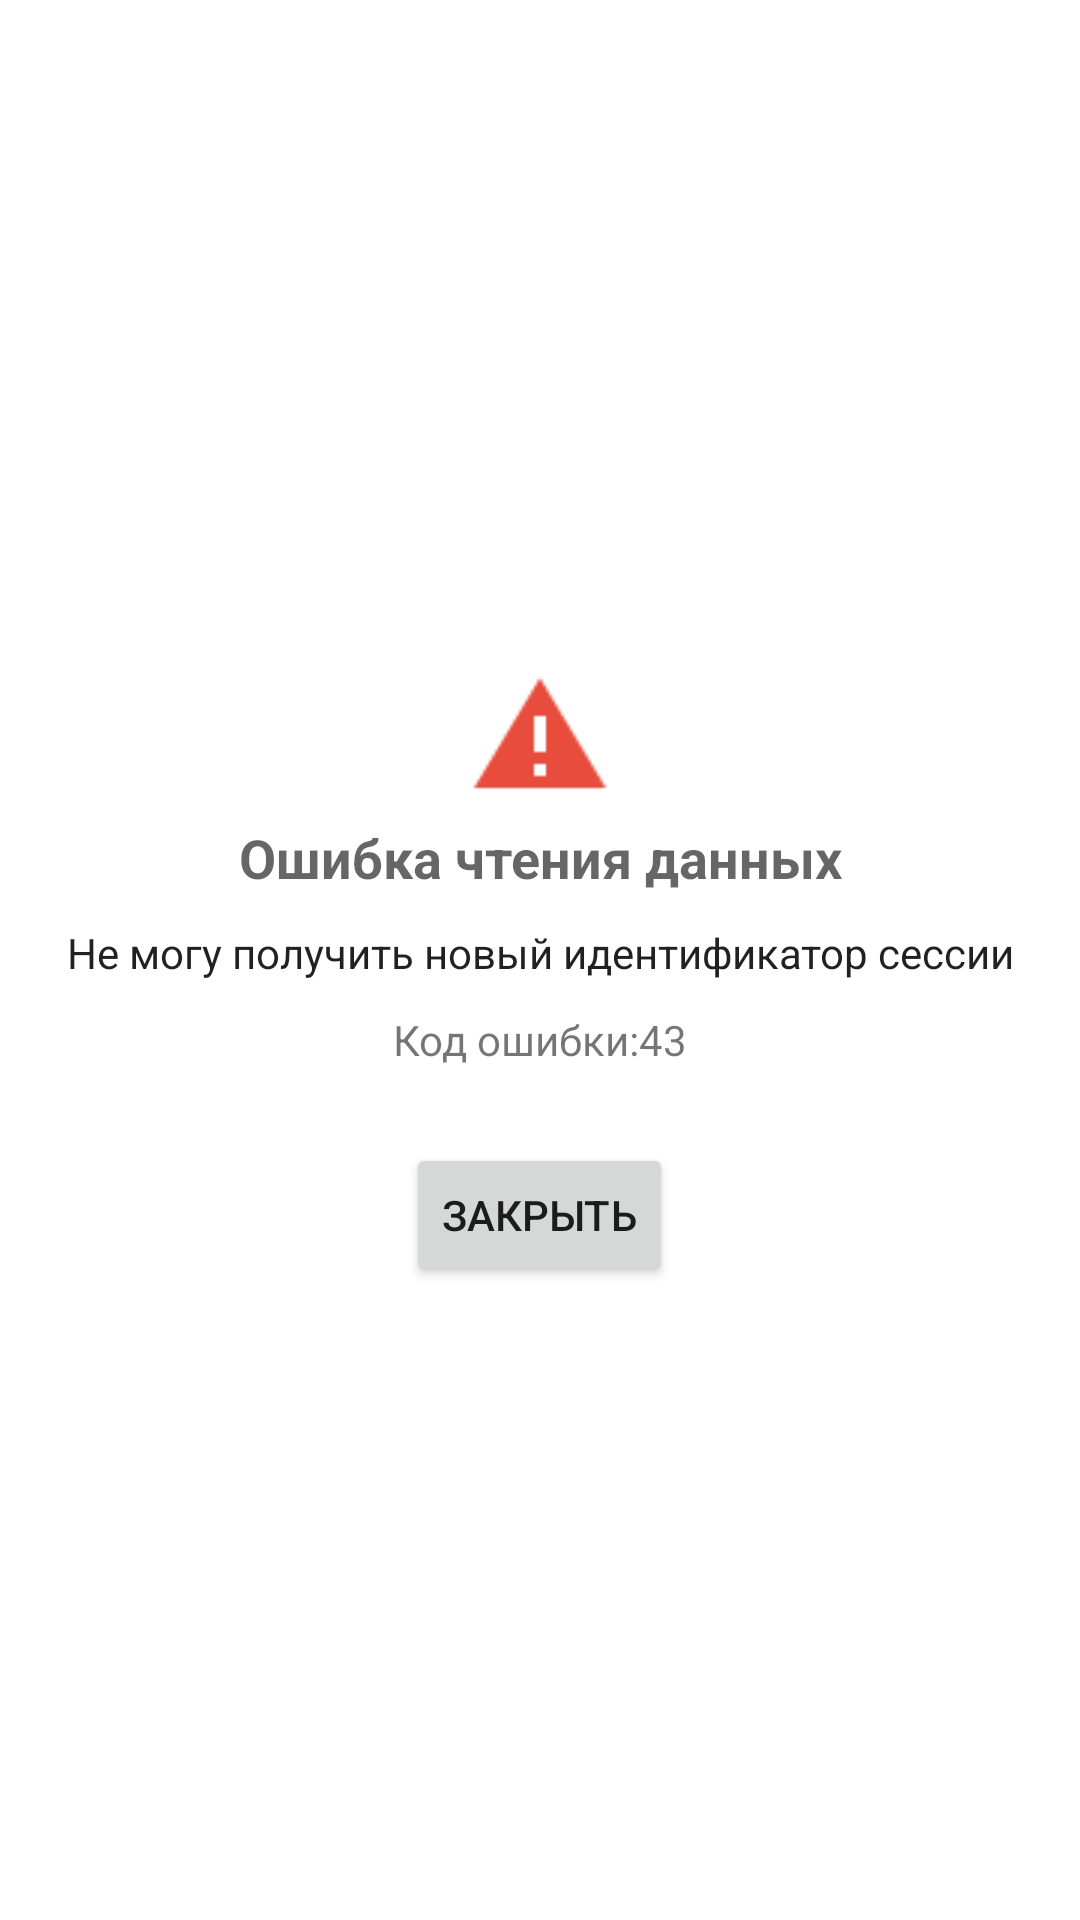

Icon bounding boxes for this 1080px x 1920px phone screenshot, format (x1, y1, x2, y2):
error: (473, 678, 607, 789)
